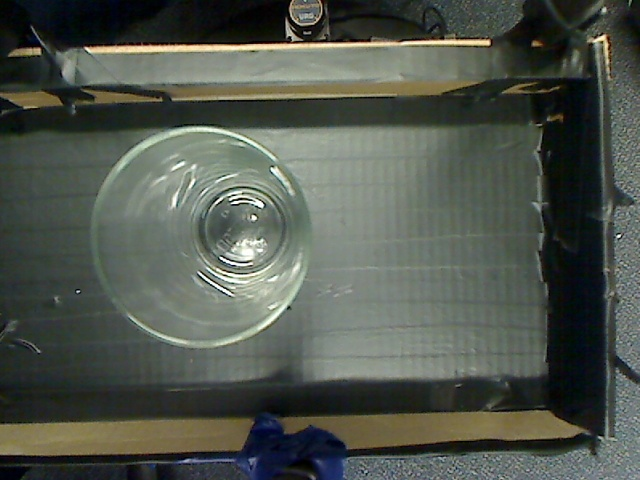cup: (80, 114, 328, 358)
